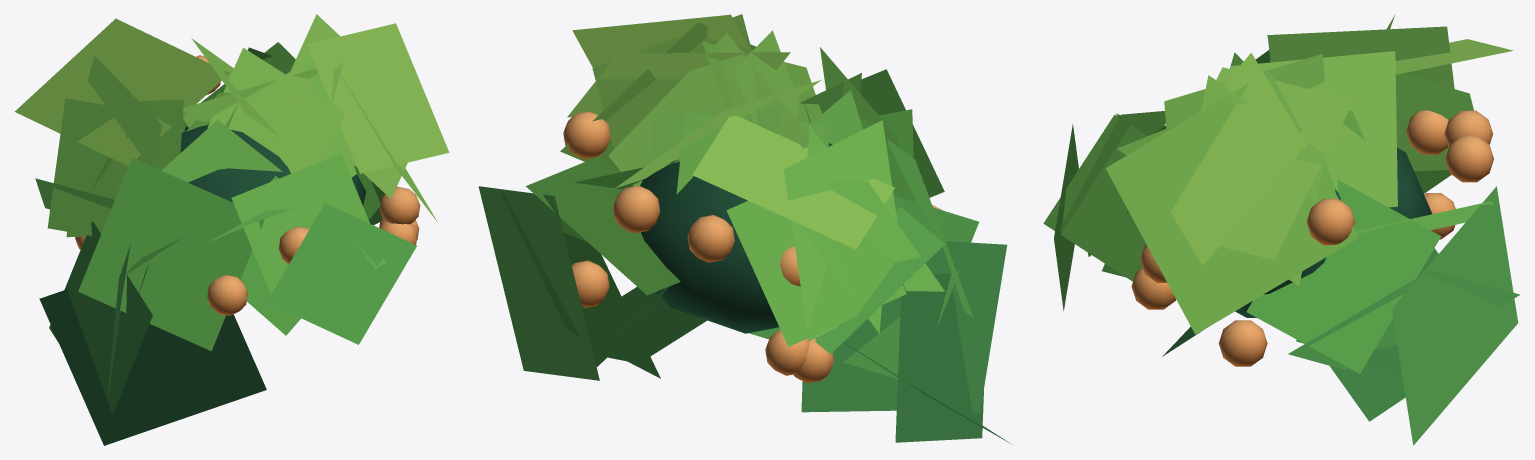
Rendered from bush_berries.glb.
3 views of the same model, side by side, from view 1: azimuth 30°, elevation 25°; view 2: azimuth 150°, elevation 25°; view 3: azimuth 270°, elevation 25° (orthographic). The views are drawn at different scales.
Parts seen in each view (by area): view 1: Leaves, Fruit, Bush; view 2: Leaves, Bush, Fruit; view 3: Leaves, Fruit, Bush.
Boxes of the visible parts, box(x1,y1,x2,y2) form: Leaves: box(14, 14, 449, 445); Fruit: box(75, 55, 420, 315); Bush: box(180, 124, 365, 205); Leaves: box(478, 14, 1012, 444); Bush: box(640, 143, 832, 333); Fruit: box(563, 111, 942, 383); Leaves: box(1043, 15, 1519, 445); Fruit: box(1131, 110, 1493, 366); Bush: box(1235, 147, 1432, 317).
Bounding box in the file's own units: 1.36 × 1.12 × 1.25.
